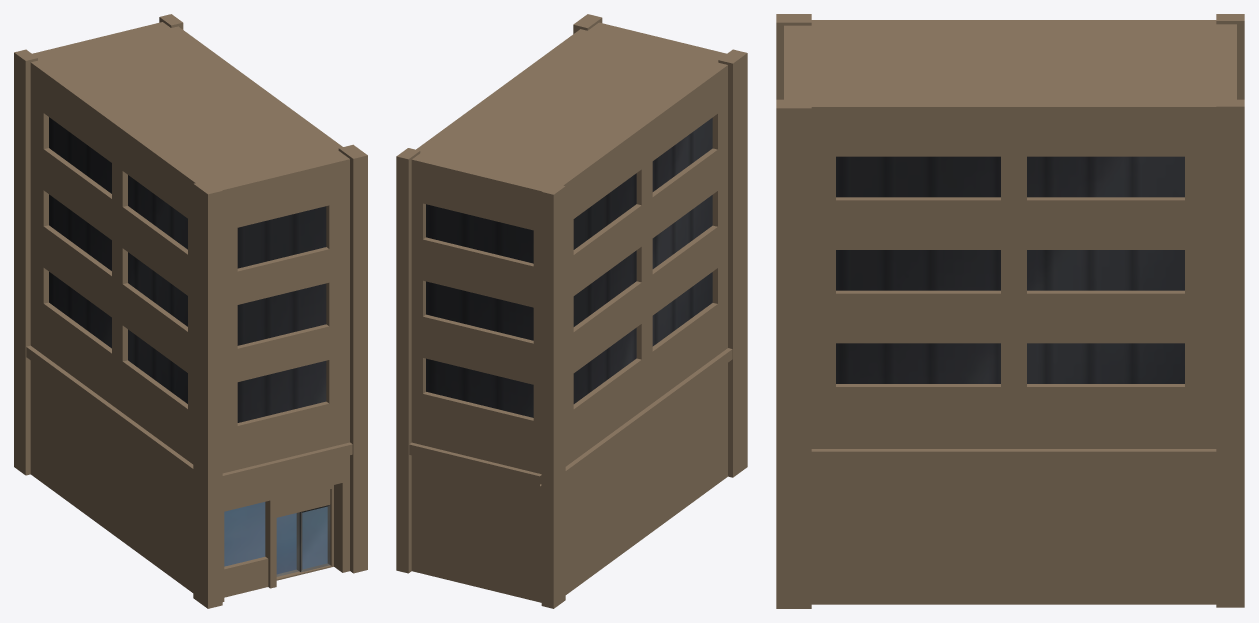
File: Bld_Building_EA.fbx
3 views of the same model, side by side, from view 1: azimuth 30°, elevation 25°; view 2: azimuth 150°, elevation 25°; view 3: azimuth 270°, elevation 25° (orthographic). The views are drawn at different scales.
Parts seen in each view (by area): view 1: Bld_Building_EA; view 2: Bld_Building_EA; view 3: Bld_Building_EA.
Part boxes in pixels (left/top/right/bottom): Bld_Building_EA: left=14, top=14, right=367, bottom=608; Bld_Building_EA: left=396, top=14, right=747, bottom=608; Bld_Building_EA: left=776, top=14, right=1244, bottom=608.
Size of the model in its own units: 650 by 1610 by 1365.
